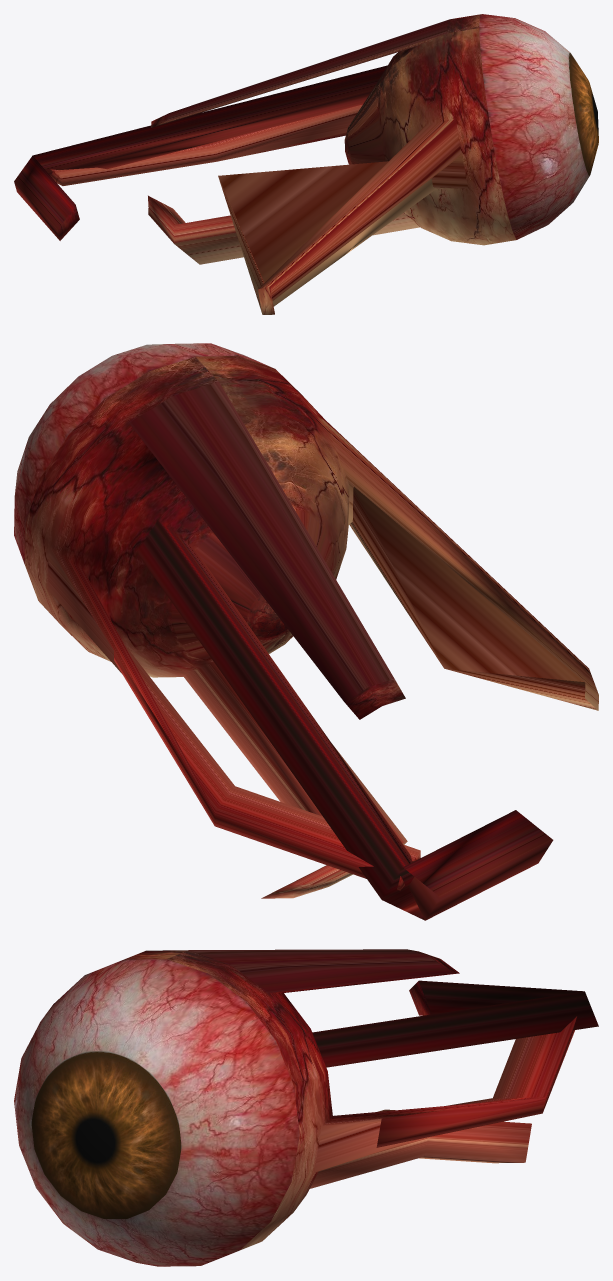
Rendered from human Eye.glb.
3 renders of one model, top to bottom at view 1: azimuth 30°, elevation 25°; view 2: azimuth 150°, elevation 25°; view 3: azimuth 270°, elevation 25°, orthographic. The views are drawn at different scales.
Visible parts, largest first — view 1: Sphere; view 2: Sphere; view 3: Sphere.
Boxes of the visible parts, left/top/right/bottom form: Sphere: left=14, top=14, right=598, bottom=314; Sphere: left=14, top=343, right=598, bottom=920; Sphere: left=14, top=949, right=598, bottom=1266.
Bounding box in the file's own units: 0.6027 × 0.3125 × 0.5029.
3 materials, 3 textured.
